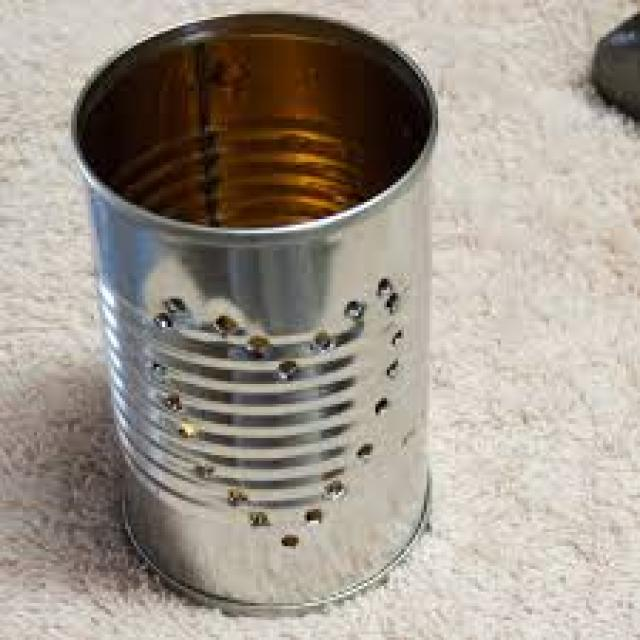metal: (66, 8, 436, 606)
